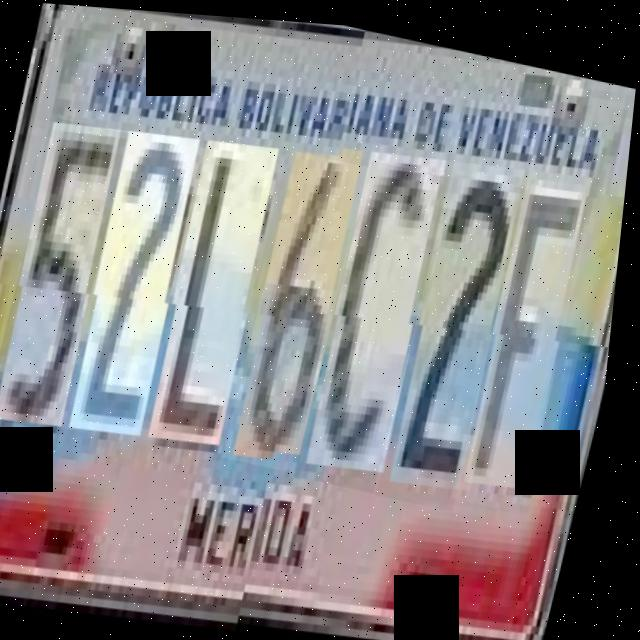2: (384, 164, 536, 507), (67, 123, 212, 443)
5: (0, 115, 134, 434)
6: (231, 144, 374, 471)
C: (304, 152, 457, 490)
F: (461, 173, 602, 507)
L: (145, 133, 291, 453)
